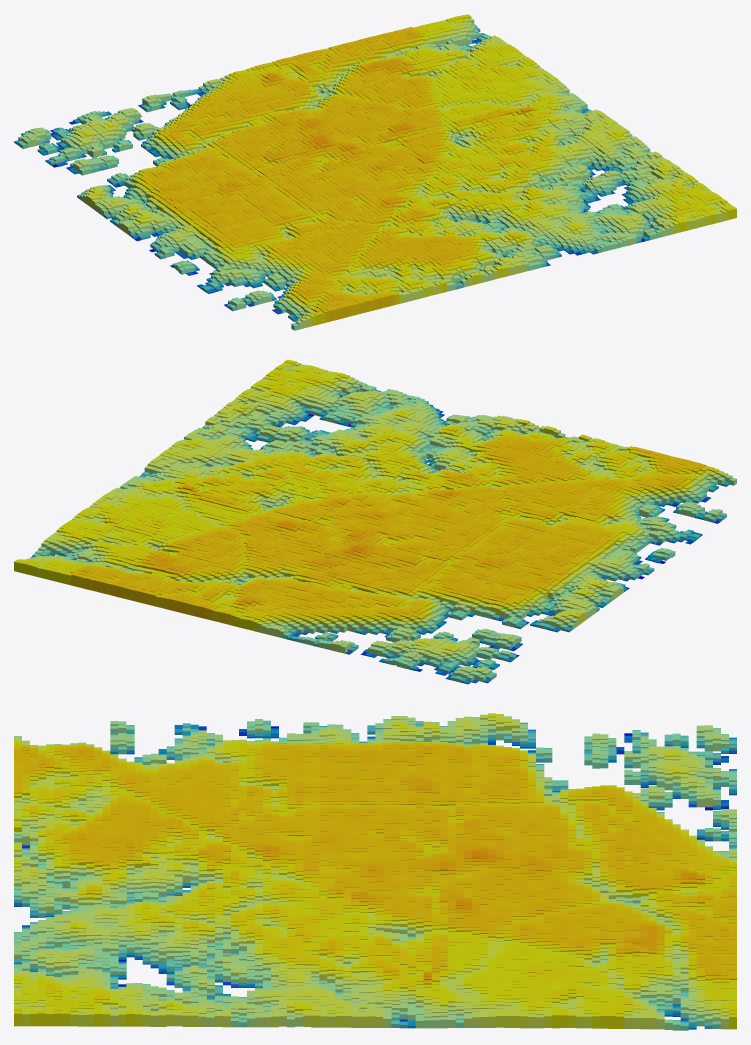
File: population.glb
The picture shows the model from 3 angles, top to bottom: view 1: azimuth 30°, elevation 25°; view 2: azimuth 150°, elevation 25°; view 3: azimuth 270°, elevation 25°; orthographic projection. The views are drawn at different scales.
Parts seen in each view (by area): view 1: population; view 2: population; view 3: population.
Boxes of the visible parts, box(x1,y1,x2,y2) form: population: box(14, 14, 736, 330); population: box(14, 359, 736, 684); population: box(14, 713, 736, 1030).
Bounding box in the file's own units: 9029 × 294 × 8968.
